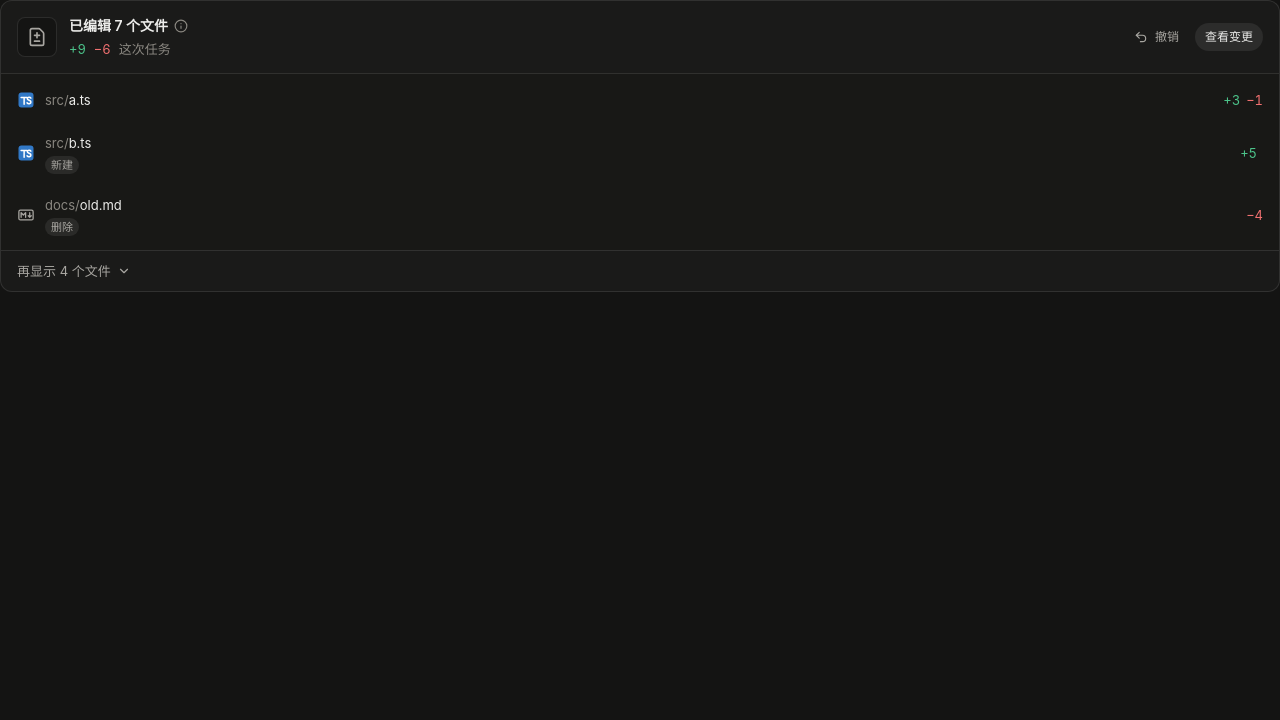
TurnFilesCard › warns that a task recorded after Emperor came back may hold outside changes
This screenshot has width=1280, height=720.
Click the button "撤销" at coordinates (1156, 37), box x1=1123 y1=23 x2=1189 y2=51
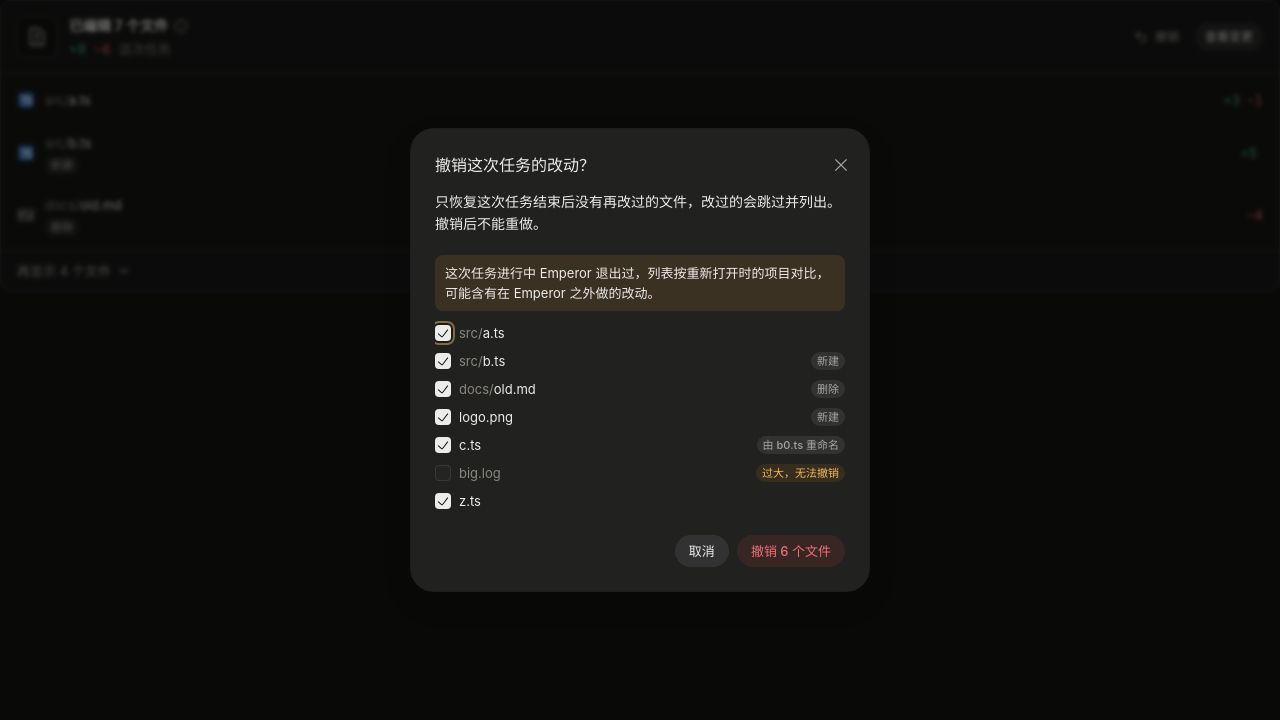
Expected: the text "这次任务进行中 Emperor 退出过，列表按重新打开时的项目对比，可能含有在 Emperor 之外做的改动。" is shown, x1=435 y1=255 x2=845 y2=311
